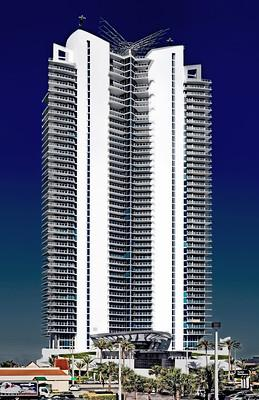building: (36, 10, 216, 363)
